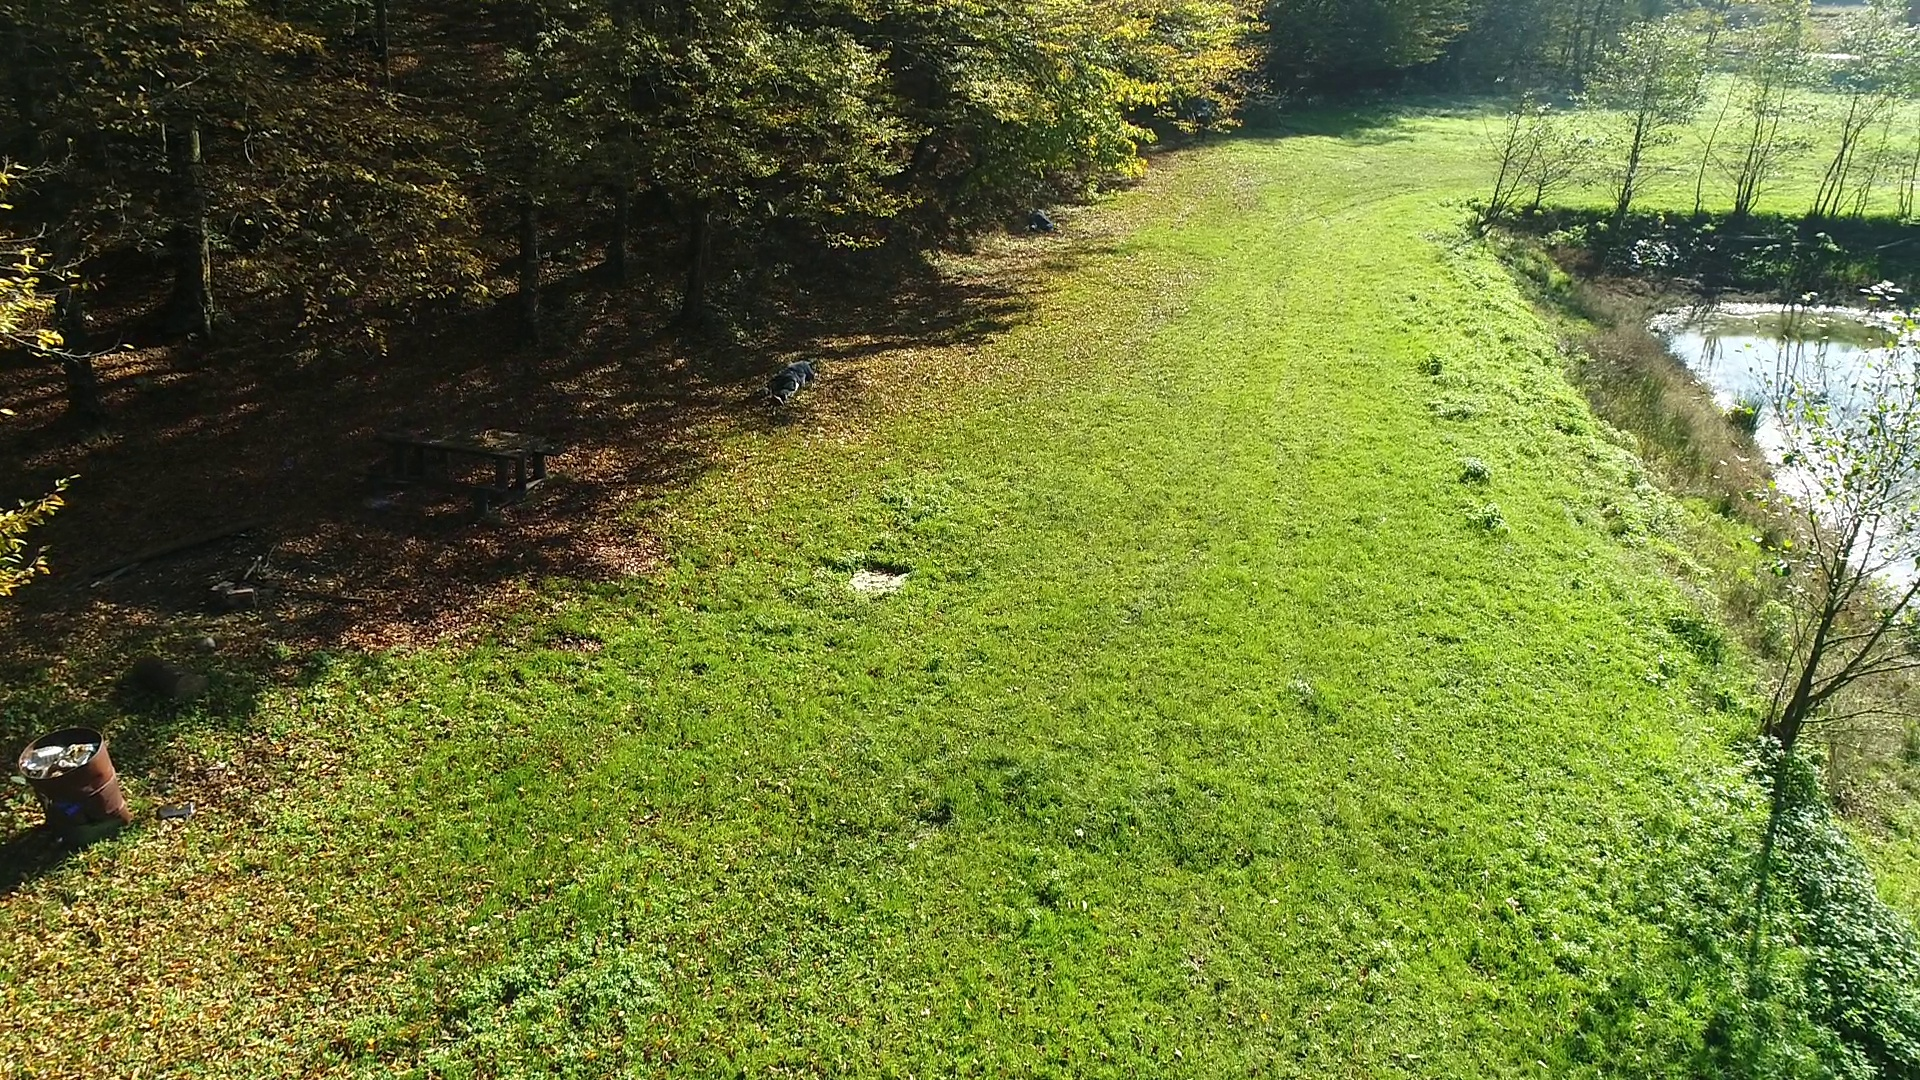person: (757, 359, 815, 408), (1192, 91, 1212, 141), (1028, 208, 1053, 232)
